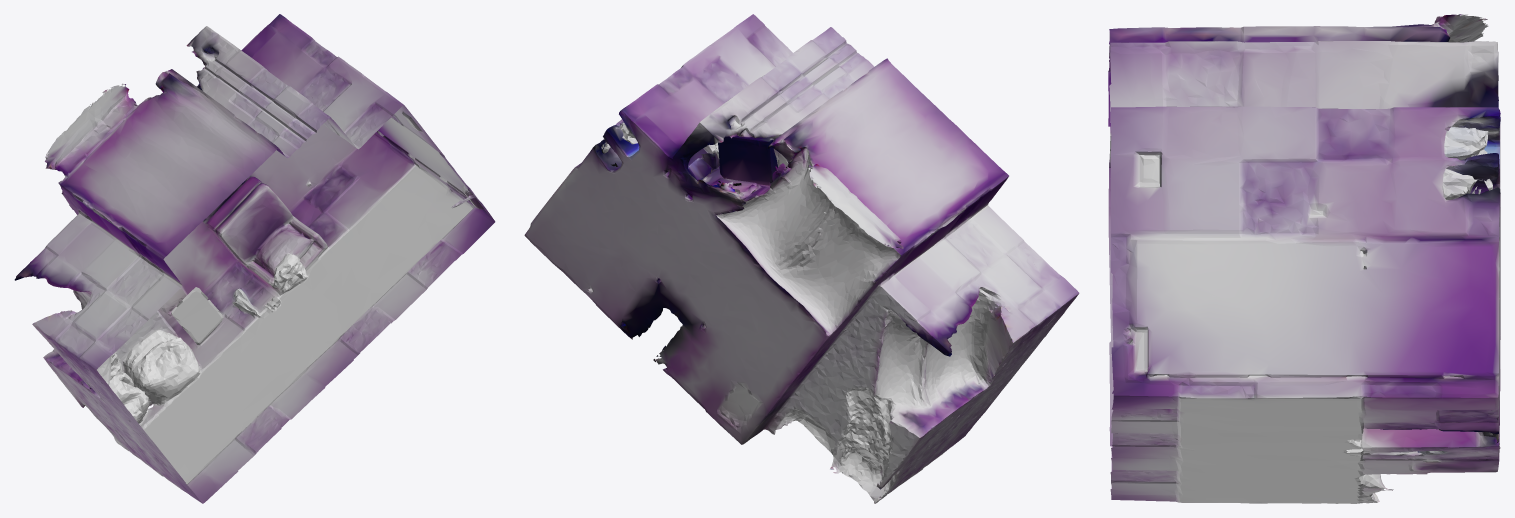
The model's file is office1_gt.glb.
3 views of the same model, side by side, from view 1: azimuth 30°, elevation 25°; view 2: azimuth 150°, elevation 25°; view 3: azimuth 270°, elevation 25° (orthographic). The views are drawn at different scales.
Parts seen in each view (by area): view 1: world; view 2: world; view 3: world.
Boxes of the visible parts, x1,y1,x2,y2 form: world: [14, 14, 495, 503]; world: [524, 14, 1079, 503]; world: [1108, 14, 1500, 503].
Size of the model in its own units: 4.81 by 4.11 by 2.61.
